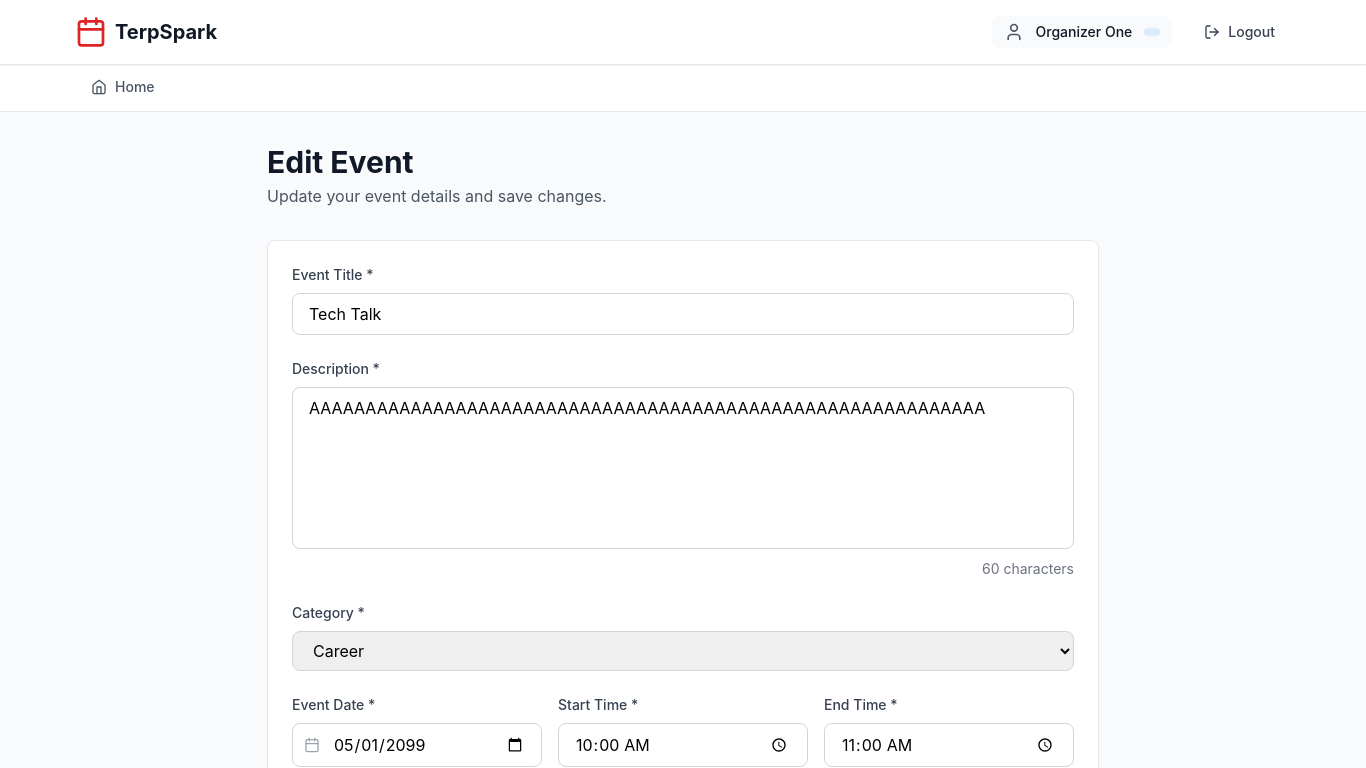
Test: EditEventPage › shows validation error for description too short
Expected: the heading "Edit Event" is shown, [267, 144, 414, 180]
Replace the text in the text box with placeholder "Provide a detailed description of your event..." with "Short" at (683, 468), box [292, 387, 1074, 549]
(page scrolled)
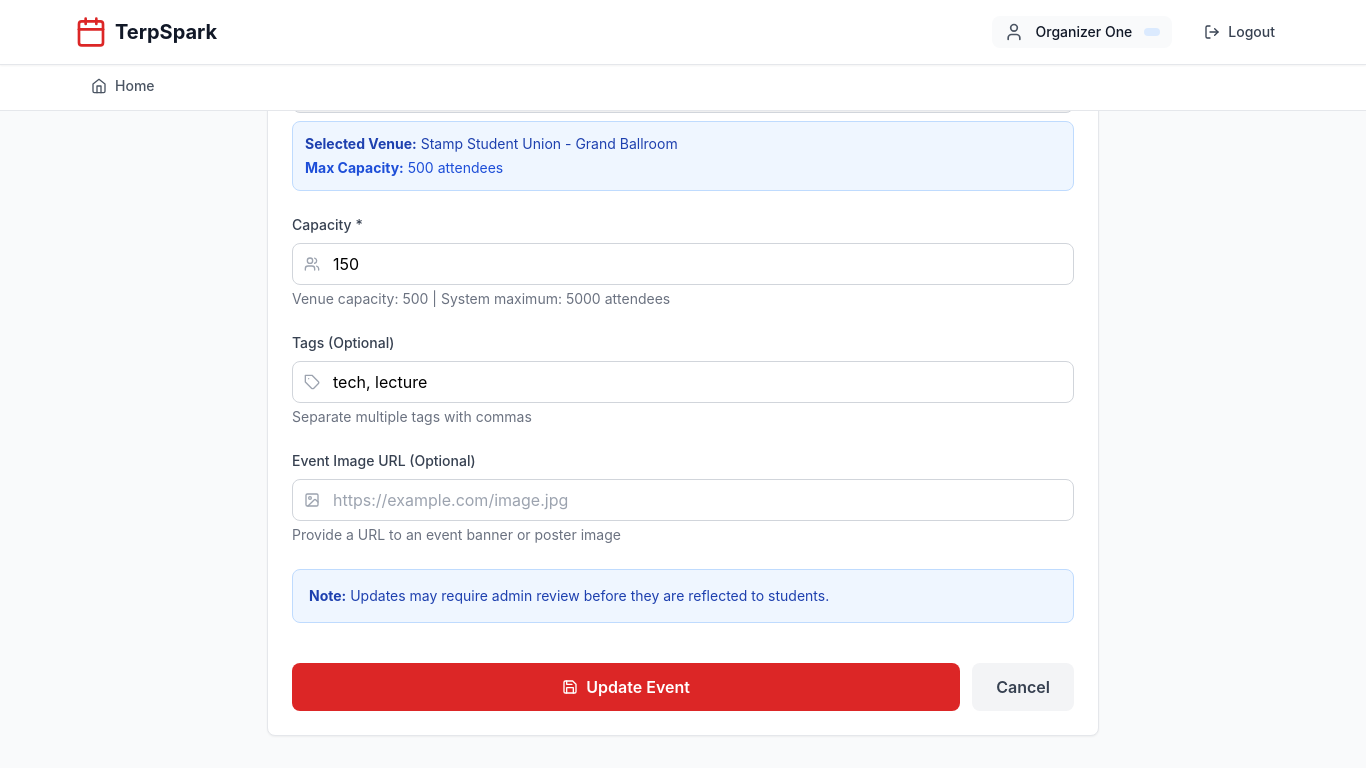
Click the button "Update Event".
click(626, 687)  # box [292, 663, 960, 711]
(page scrolled)
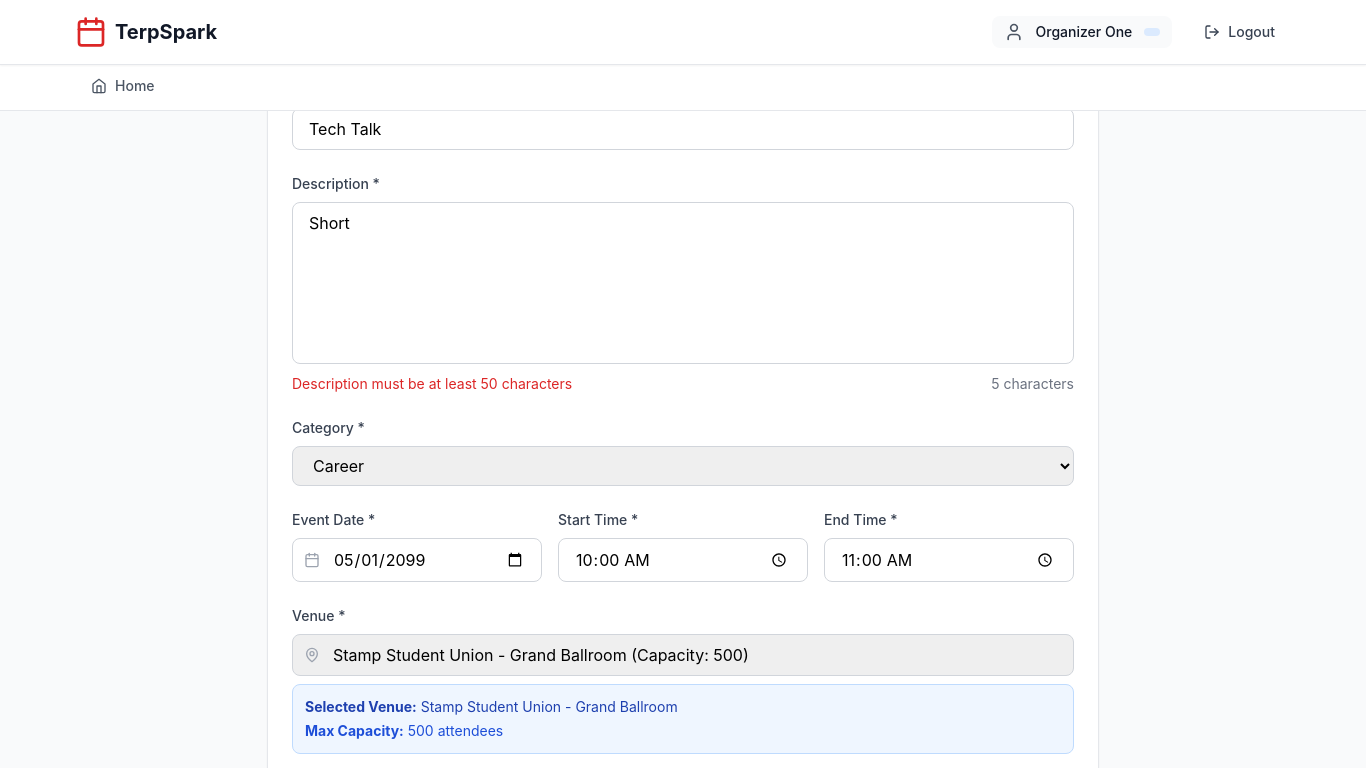
Expected: the text "Description must be at least 50 characters" is shown, [292, 374, 572, 394]
